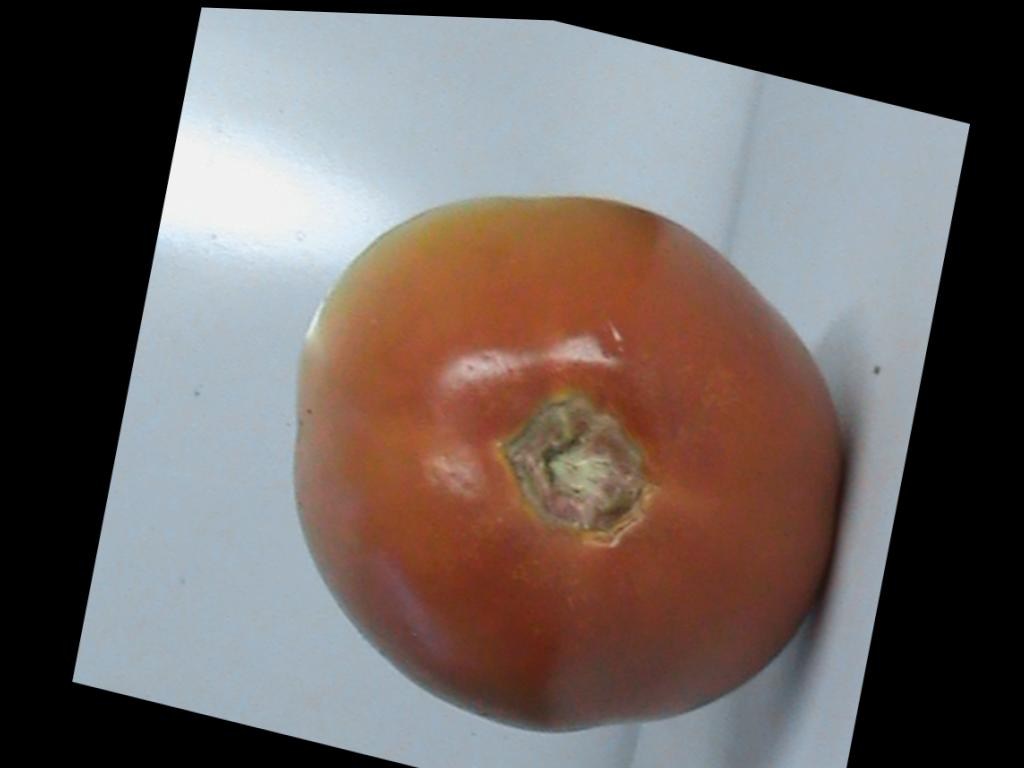bruise_discoloration: (304, 196, 620, 361)
tomato: (294, 197, 839, 731)
